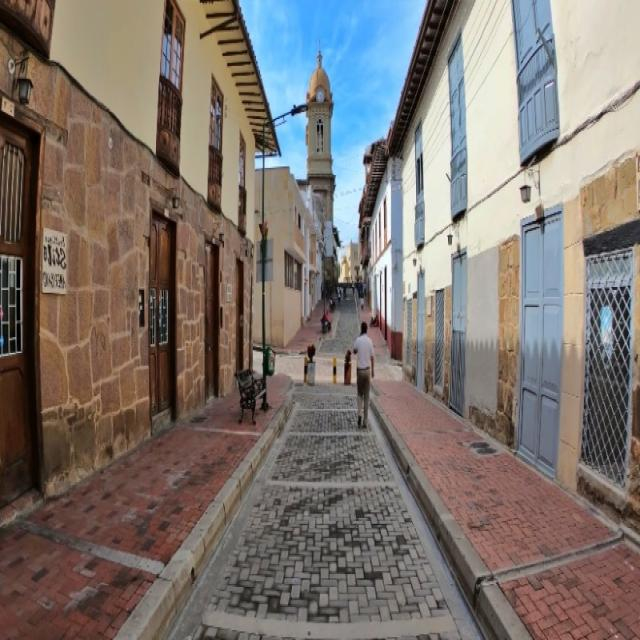Fachada: (1, 0, 279, 504), (389, 0, 640, 521), (254, 166, 319, 347), (362, 139, 403, 359)
Poste: (259, 105, 307, 386)
